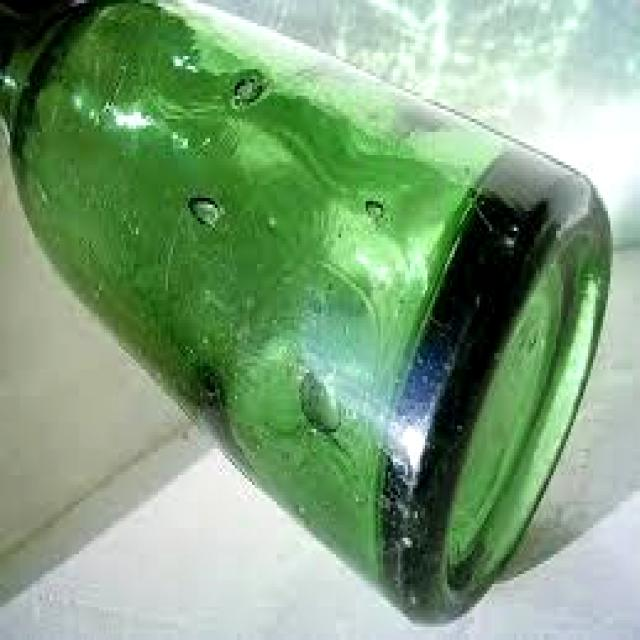Glass: (0, 0, 617, 629)
